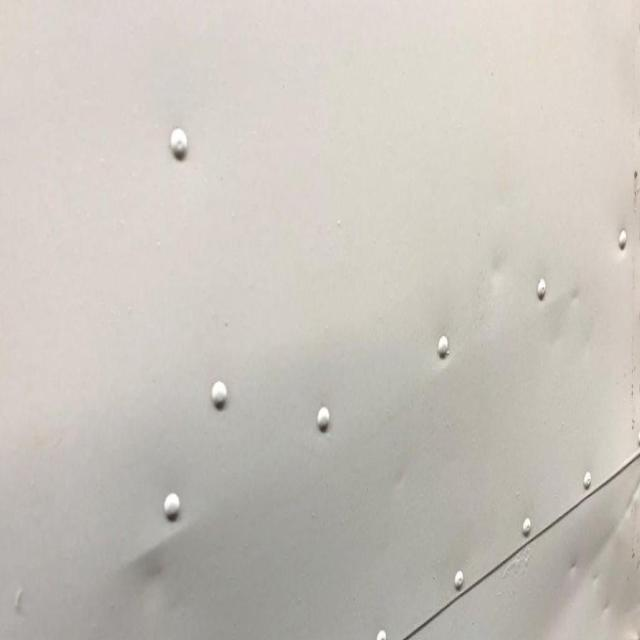Dent: (593, 472, 640, 559), (130, 532, 177, 603), (486, 251, 513, 292), (391, 464, 411, 494), (568, 282, 583, 308), (600, 595, 614, 617), (567, 557, 581, 578), (589, 569, 603, 589)
